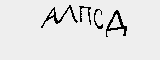А: (39, 3, 57, 29)
Д: (103, 8, 127, 39)
Л: (57, 4, 76, 26)
П: (78, 4, 93, 26)
С: (91, 5, 106, 32)
